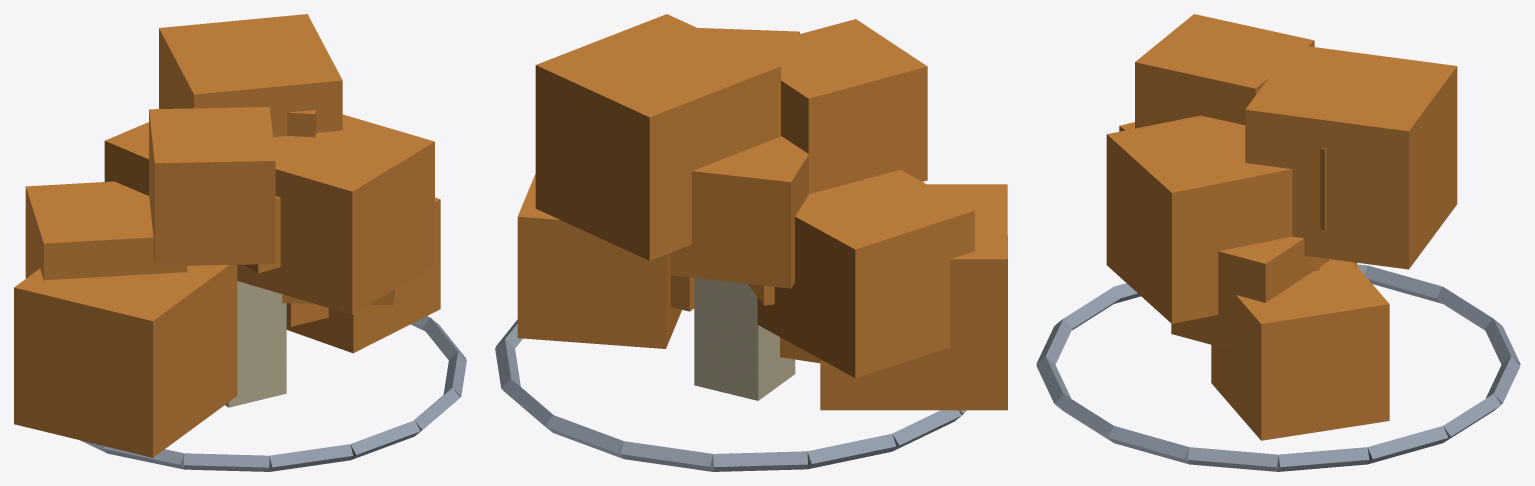
Rendered from nuke.glb.
3 views of the same model, side by side, from view 1: azimuth 30°, elevation 25°; view 2: azimuth 150°, elevation 25°; view 3: azimuth 270°, elevation 25° (orthographic). The views are drawn at different scales.
Parts seen in each view (by area): view 1: Nuke Pop dimensional effect.001; view 2: Nuke Pop dimensional effect.001; view 3: Nuke Pop dimensional effect.001.
Part boxes in pixels (left/top/right/bottom): Nuke Pop dimensional effect.001: left=14, top=14, right=466, bottom=471; Nuke Pop dimensional effect.001: left=495, top=14, right=1007, bottom=471; Nuke Pop dimensional effect.001: left=1036, top=14, right=1520, bottom=471.
Bounding box in the file's own units: 1.93 × 1.28 × 1.77.
Materials: 2 (1 with a texture image).
